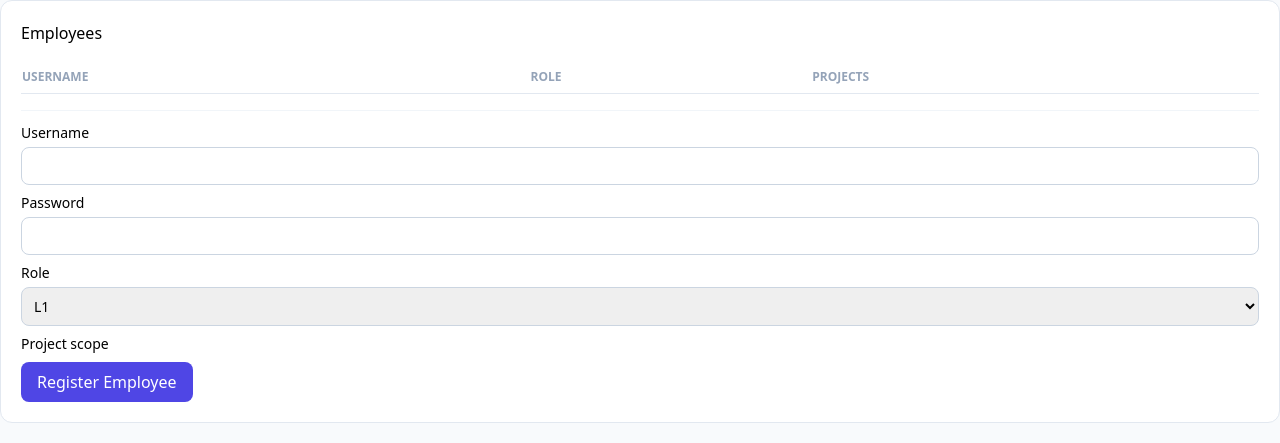
Scenario: EmployeesSection register-employee validation › shows an inline password error and does not register when password is empty
The image size is (1280, 443).
In the field labelled "Username": (640, 166) [21,147,1259,185], type "newuser"
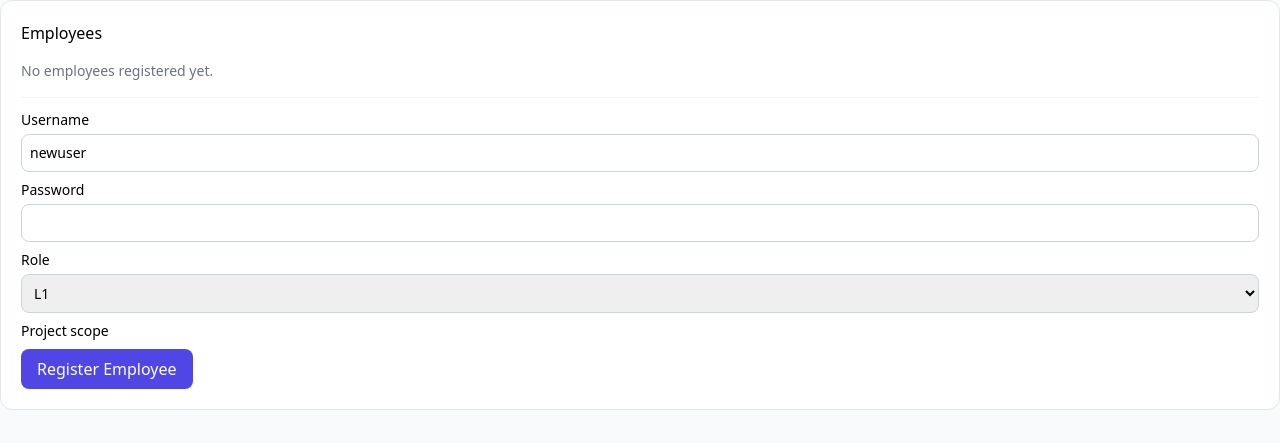
Click the button "Register Employee": (107, 369) [21,349,193,389]
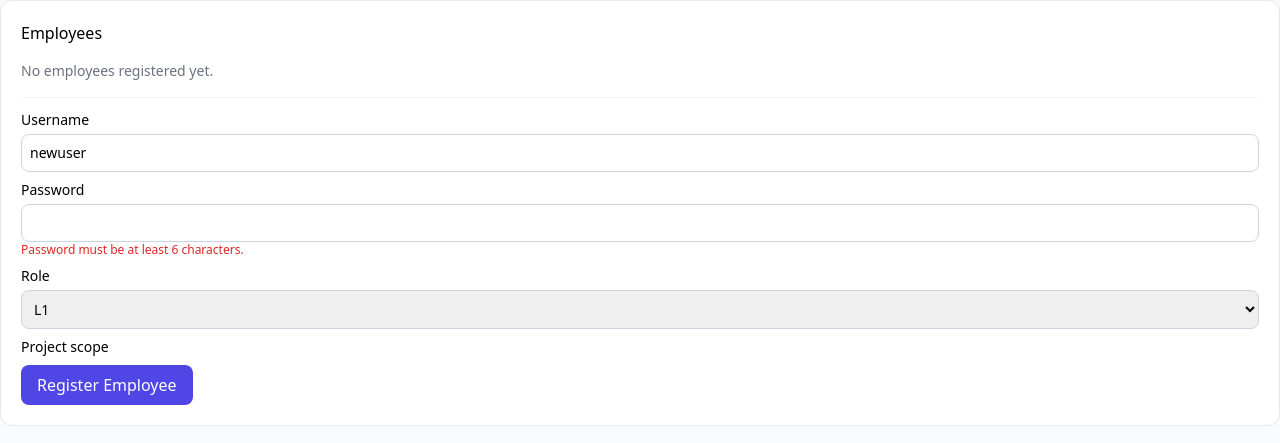
Now the text "Password must be at least 6 characters." is shown, box [21,241,244,258]
